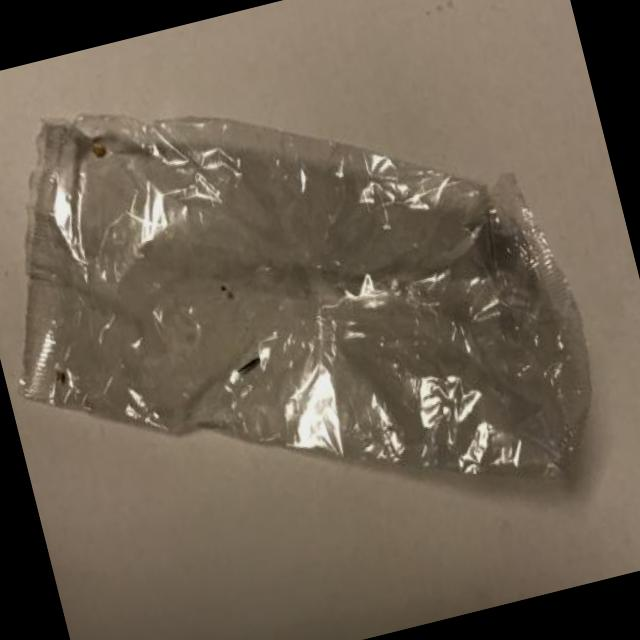tui_ni_long: (19, 112, 594, 485)
